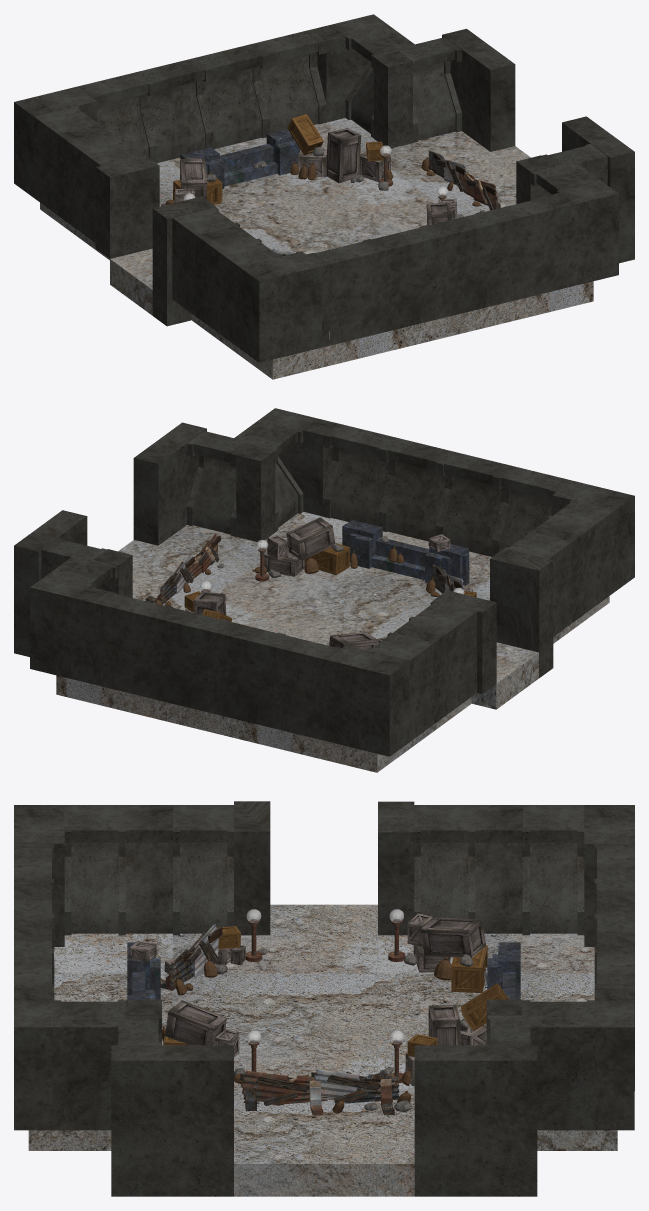
The model's file is Gladitory.fbx.
The picture shows the model from 3 angles, top to bottom: view 1: azimuth 30°, elevation 25°; view 2: azimuth 150°, elevation 25°; view 3: azimuth 270°, elevation 25°; orthographic projection. The views are drawn at different scales.
Parts seen in each view (by area): view 1: Floor4, pCube320, pCube321, pCube317, pCube314, pCube15, pCube294, pCube309, pCube299, pCube323, pCube301, pCube304 (+19 smaller); view 2: Floor4, pCube317, pCube314, pCube321, pCube320, pCube298, pCube315, pCube167, pCube162, pCube323, pCube301, pCube326 (+17 smaller); view 3: Floor4, pCube309, pCube162, pCube323, pCube301, pCube325, pCube302, pCube322, pCube324, pCube315, pCube294, pCube167 (+20 smaller).
Part boxes in pixels (x1,y1,x2,y2): Floor4: [40, 118, 593, 379]; pCube320: [315, 225, 442, 345]; pCube321: [428, 197, 555, 317]; pCube317: [190, 31, 318, 149]; pCube314: [77, 59, 205, 163]; pCube15: [239, 251, 321, 362]; pCube294: [540, 182, 618, 290]; pCube309: [442, 28, 515, 151]; pCube299: [95, 155, 159, 258]; pCube323: [196, 225, 282, 347]; pCube301: [58, 124, 144, 242]; pCube304: [399, 37, 461, 142]; Floor4: [56, 512, 609, 772]; pCube317: [100, 594, 229, 713]; pCube314: [213, 621, 341, 741]; pCube321: [322, 423, 451, 541]; pCube320: [435, 451, 564, 556]; pCube298: [326, 645, 409, 756]; pCube315: [30, 576, 108, 684]; pCube167: [490, 548, 553, 678]; pCube162: [133, 422, 206, 545]; pCube323: [531, 499, 615, 622]; pCube301: [393, 601, 476, 723]; pCube326: [187, 431, 252, 536]; Floor4: [28, 904, 617, 1196]; pCube309: [414, 1045, 537, 1196]; pCube162: [111, 1045, 233, 1196]; pCube323: [64, 805, 172, 935]; pCube301: [414, 805, 522, 933]; pCube325: [52, 1000, 126, 1130]; pCube302: [522, 1000, 595, 1130]; pCube322: [522, 805, 584, 935]; pCube324: [173, 805, 234, 935]; pCube315: [595, 988, 634, 1130]; pCube294: [14, 988, 53, 1130]; pCube167: [234, 801, 270, 935].
Bounding box in the file's own units: 17 × 4.17 × 17.21.
12 materials, 10 textured.
